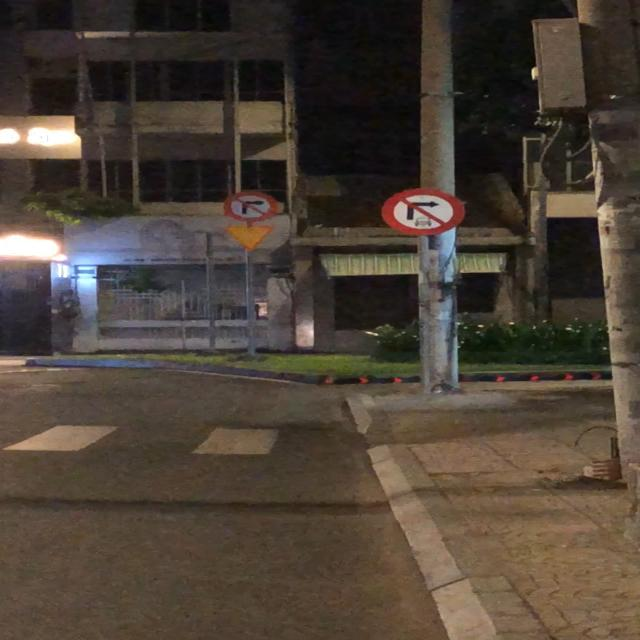Bien bao cam re phai: (221, 190, 280, 224)
Bien bao cam xe o to re phai: (377, 187, 471, 237)
Bien bao giao nhau voi duong uu tien: (219, 224, 280, 252)
